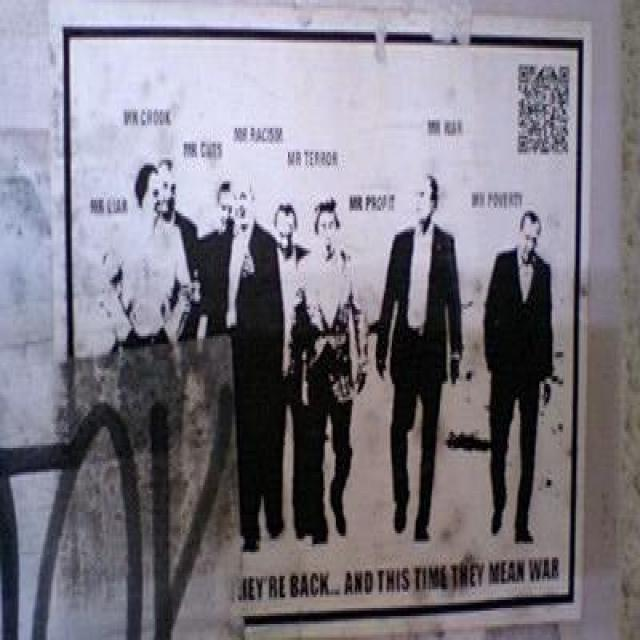qrcode: (519, 65, 569, 153)
